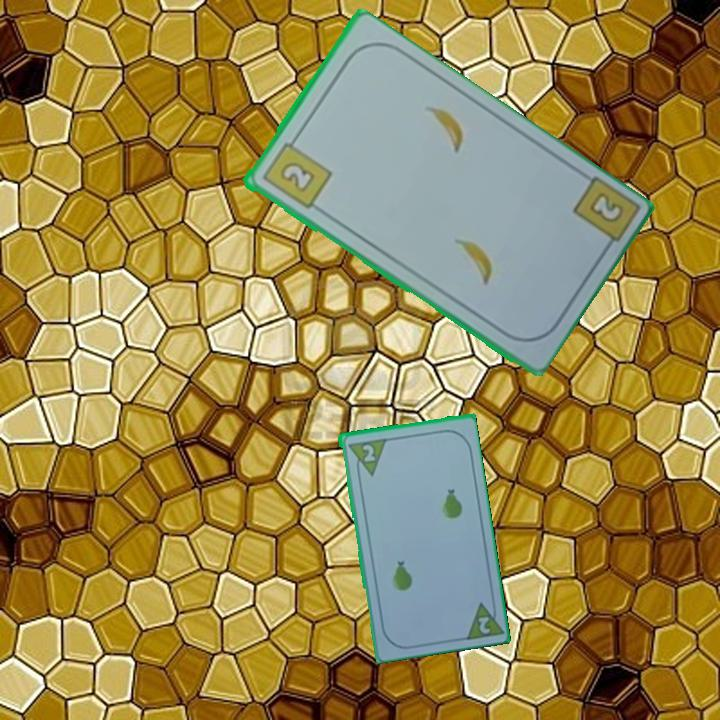2b: (258, 132, 334, 212), (585, 188, 623, 223)
2p: (460, 595, 504, 642), (344, 435, 388, 480)
